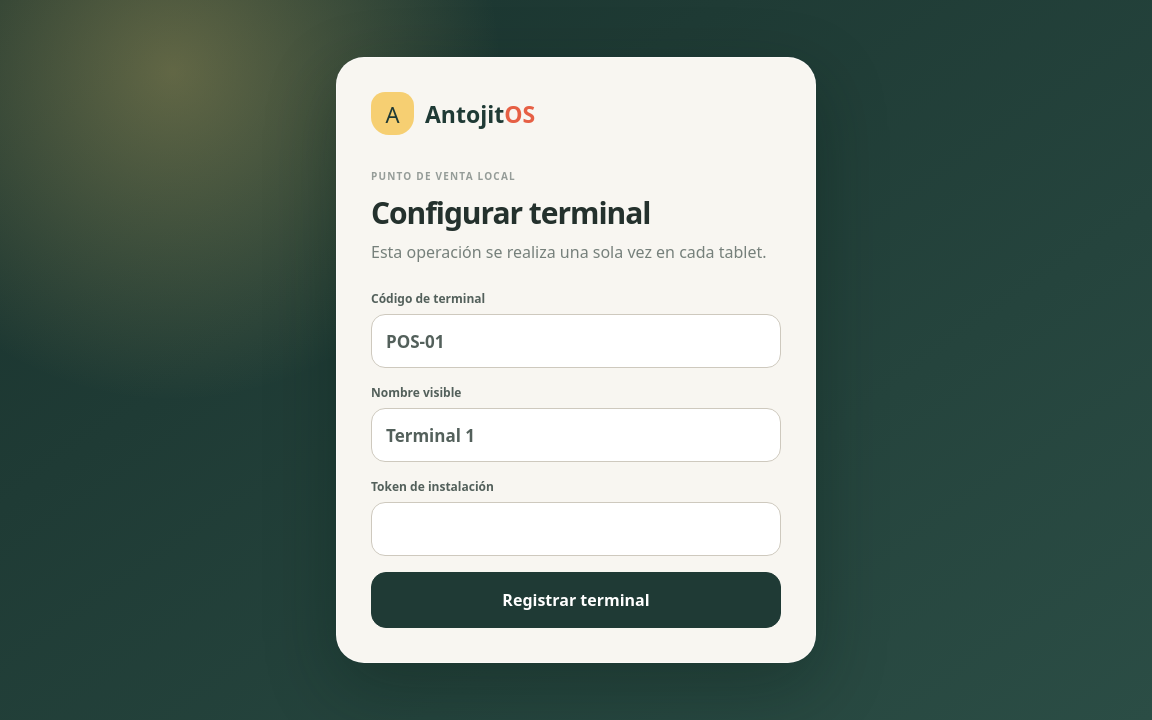
Scenario: POS conectado › registra y conserva la identidad de la terminal
Type "bootstrap-secret" into the password field labelled "Token de instalación" at coordinates (576, 529), box [371, 502, 781, 556]
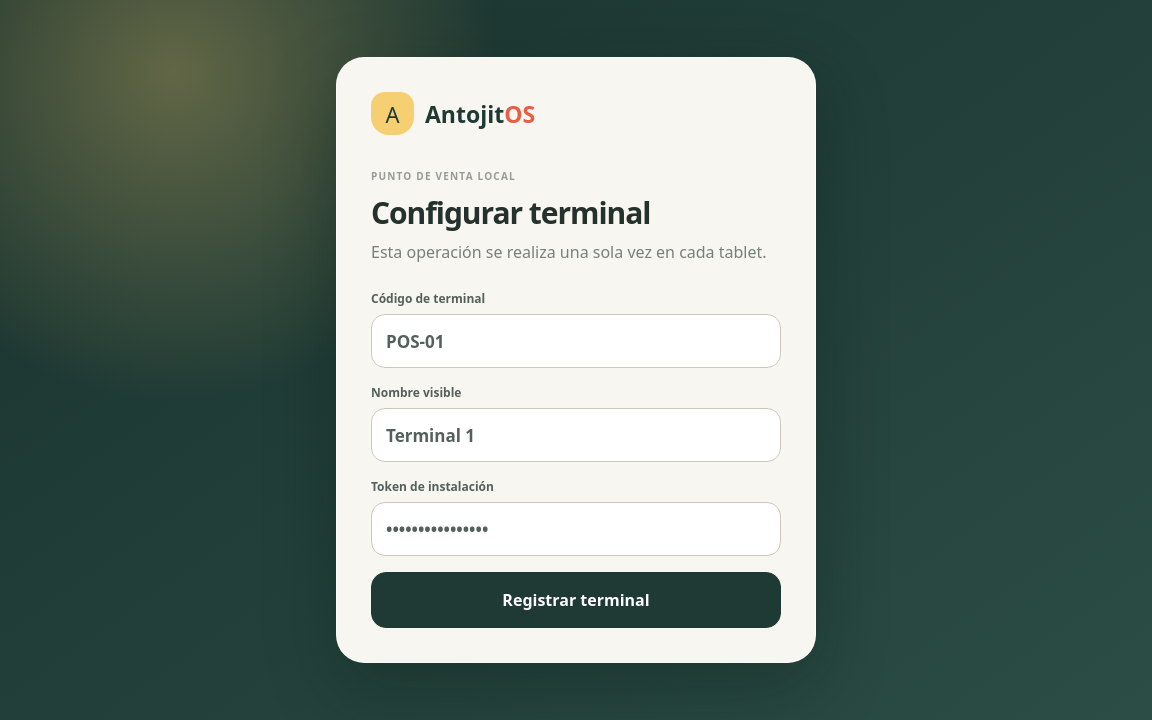
Click the button "Registrar terminal" at coordinates (576, 600), box [371, 572, 781, 628]
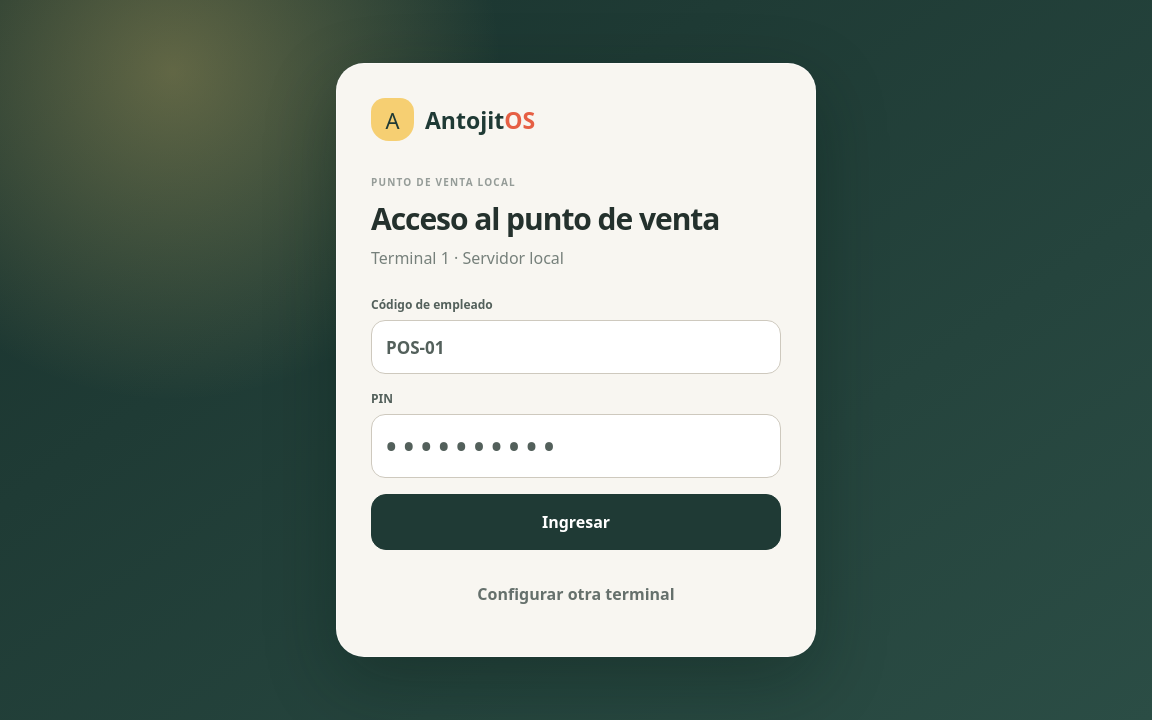
Now the heading "Acceso al punto de venta" is shown, box [371, 198, 719, 239]
